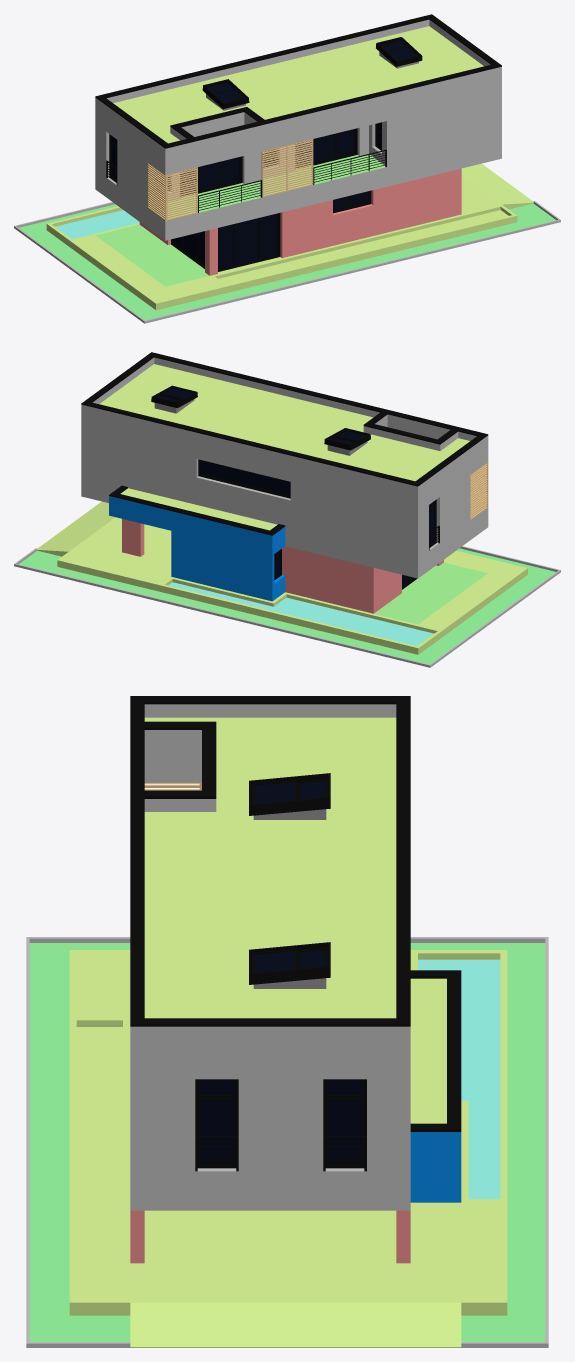
File: Modern House_2_fbx.FBX
The picture shows the model from 3 angles, top to bottom: view 1: azimuth 30°, elevation 25°; view 2: azimuth 150°, elevation 25°; view 3: azimuth 270°, elevation 25°; orthographic projection. The views are drawn at different scales.
Parts seen in each view (by area): view 1: MH02_OBJ02, MH02_OBJ03, MH02_OBJ04, MH02_OBJ01; view 2: MH02_OBJ02, MH02_OBJ03, MH02_OBJ04, MH02_OBJ01; view 3: MH02_OBJ02, MH02_OBJ03, MH02_OBJ04, MH02_OBJ01.
Part boxes in pixels (bbox=[...]): MH02_OBJ02: bbox=[95, 14, 501, 275]; MH02_OBJ03: bbox=[14, 163, 560, 323]; MH02_OBJ04: bbox=[109, 37, 422, 271]; MH02_OBJ01: bbox=[106, 139, 386, 220]; MH02_OBJ02: bbox=[81, 352, 488, 613]; MH02_OBJ03: bbox=[14, 501, 560, 667]; MH02_OBJ04: bbox=[151, 385, 436, 589]; MH02_OBJ01: bbox=[429, 462, 488, 550]; MH02_OBJ02: bbox=[130, 696, 461, 1263]; MH02_OBJ03: bbox=[26, 937, 548, 1347]; MH02_OBJ04: bbox=[195, 773, 366, 1168]; MH02_OBJ01: bbox=[144, 782, 366, 1171].
Bounding box in the file's own units: 796 × 433 × 274.
